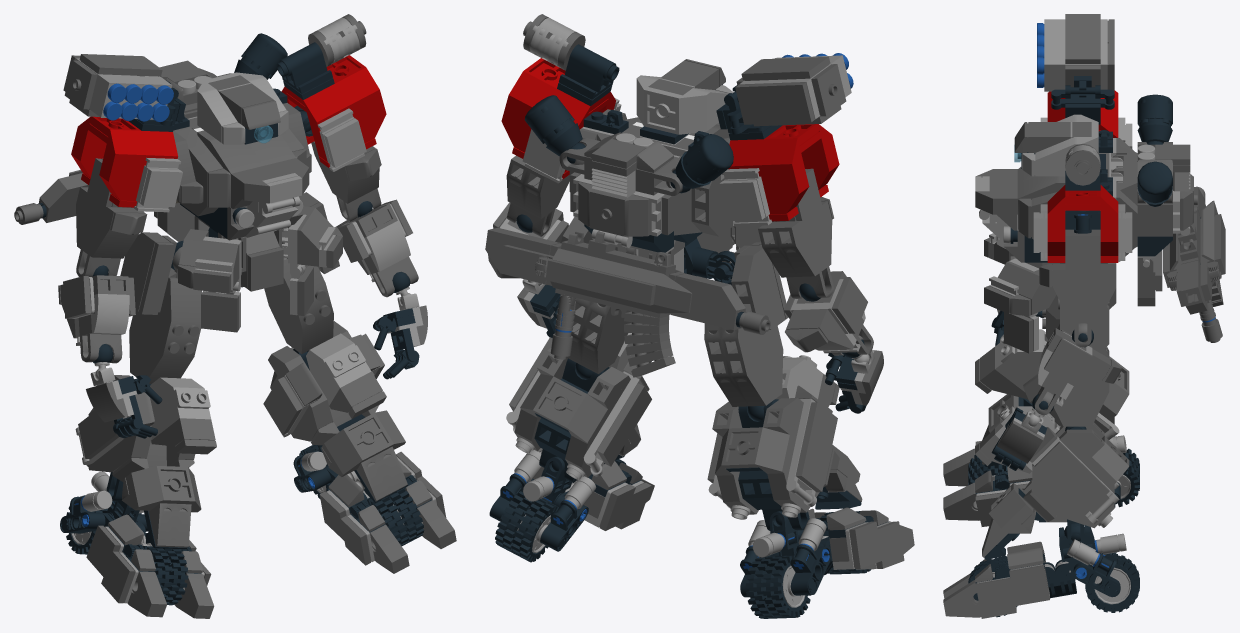
Rendered from hacs-01g-sct-cheetah.dae.
3 renders of one model, left to right at view 1: azimuth 30°, elevation 25°; view 2: azimuth 150°, elevation 25°; view 3: azimuth 270°, elevation 25°, orthographic. The views are drawn at different scales.
Bounding box in the file's own units: 413 × 320 × 610.
